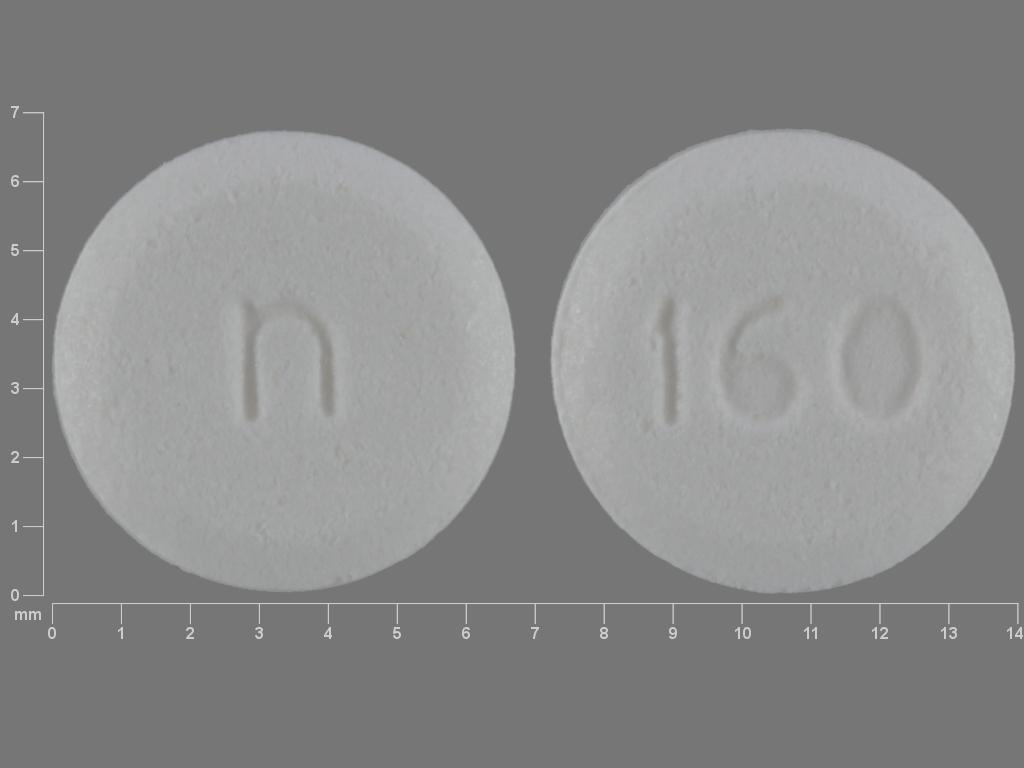Pill: (542, 120, 1024, 599), (48, 124, 525, 600)
